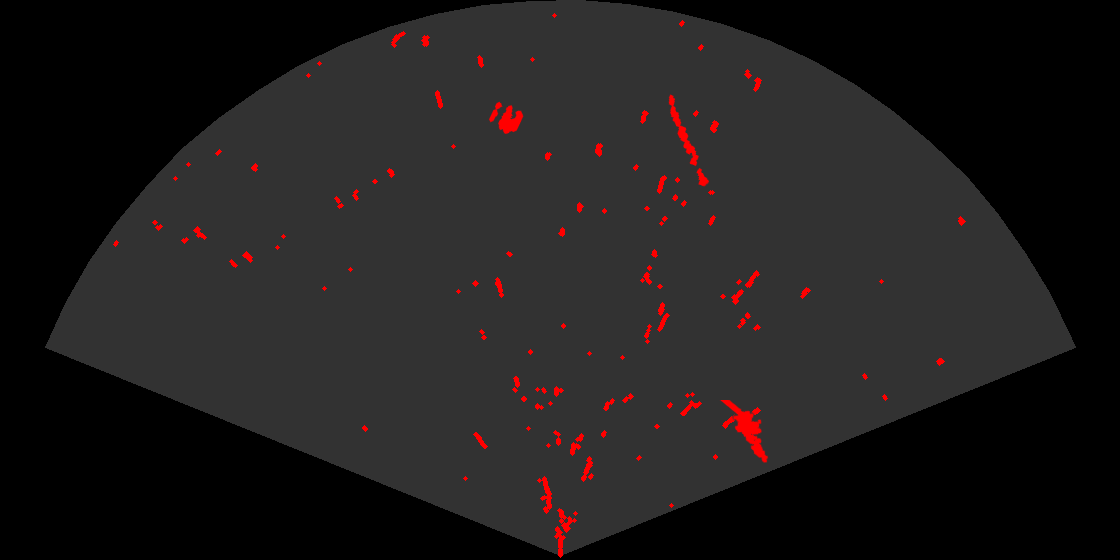ball: (487, 100, 525, 136)
chain: (667, 93, 711, 188)
frogman: (719, 400, 770, 465)
